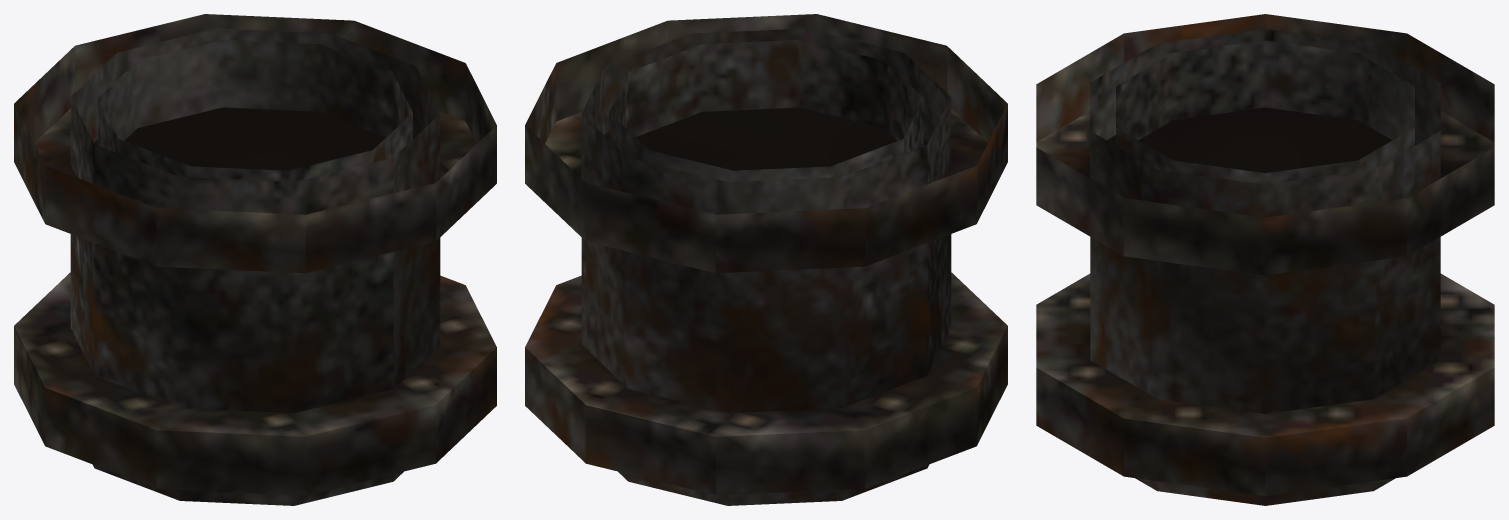
Rendered from control_room_chain_mount.dae.
The picture shows the model from 3 angles, left to right: view 1: azimuth 30°, elevation 25°; view 2: azimuth 150°, elevation 25°; view 3: azimuth 270°, elevation 25°; orthographic projection.
Parts seen in each view (by area): view 1: control_room_chain_mount; view 2: control_room_chain_mount; view 3: control_room_chain_mount.
Part boxes in pixels (box(x1,y1,x2,y2)): control_room_chain_mount: box(14, 14, 496, 505); control_room_chain_mount: box(525, 14, 1007, 505); control_room_chain_mount: box(1036, 14, 1494, 505).
Bounding box in the file's own units: 0.364 × 0.2679 × 0.3462.
